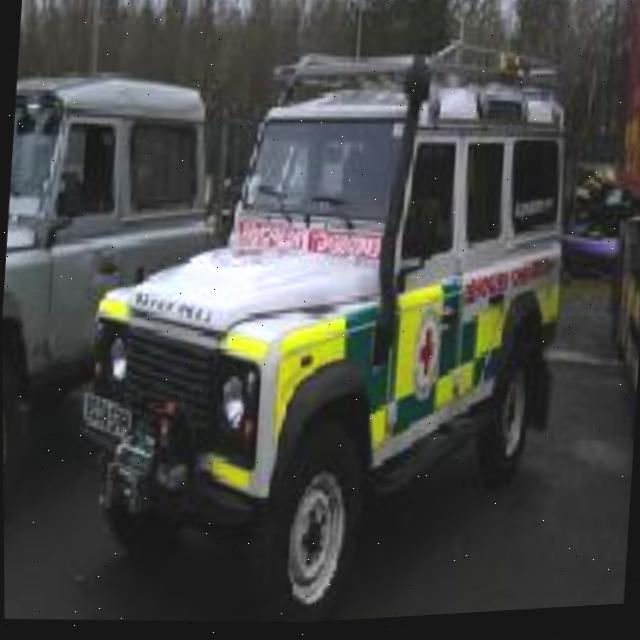emergency: (52, 36, 598, 627)
